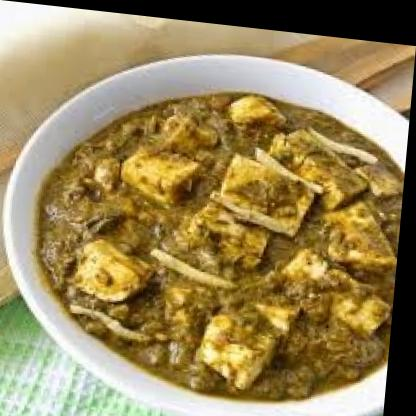palak_paneer: (27, 67, 412, 406)
